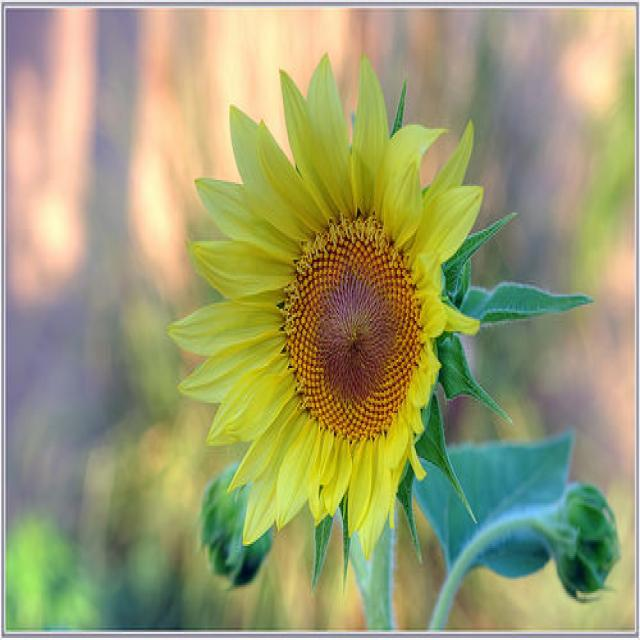sunflower: (163, 45, 487, 564)
